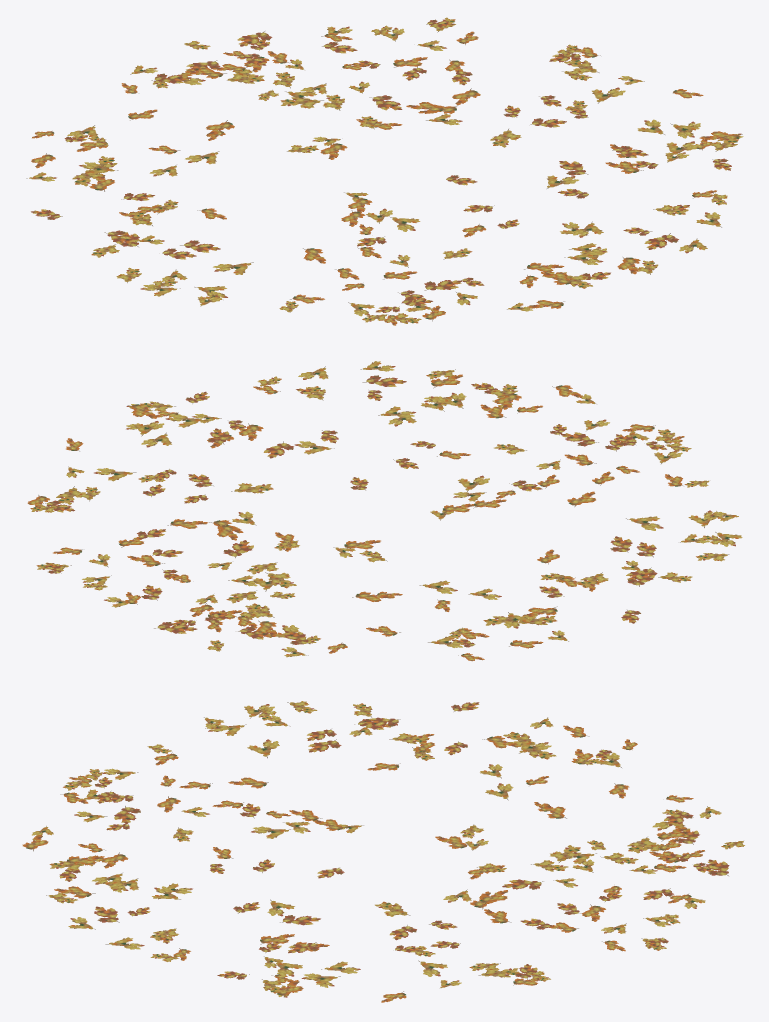
File: poirier_vieux_a.fbx
3 renders of one model, top to bottom at view 1: azimuth 30°, elevation 25°; view 2: azimuth 150°, elevation 25°; view 3: azimuth 270°, elevation 25°, orthographic.
Parts seen in each view (by area): view 1: poirier_vieux_a_feuilles_sol; view 2: poirier_vieux_a_feuilles_sol; view 3: poirier_vieux_a_feuilles_sol.
Boxes of the visible parts, bbox=[...] form: poirier_vieux_a_feuilles_sol: bbox=[26, 17, 743, 325]; poirier_vieux_a_feuilles_sol: bbox=[27, 361, 742, 661]; poirier_vieux_a_feuilles_sol: bbox=[22, 701, 744, 1002].
Size of what is drawn, in the model's own units: 6.99 by 0.00593 by 6.99.
